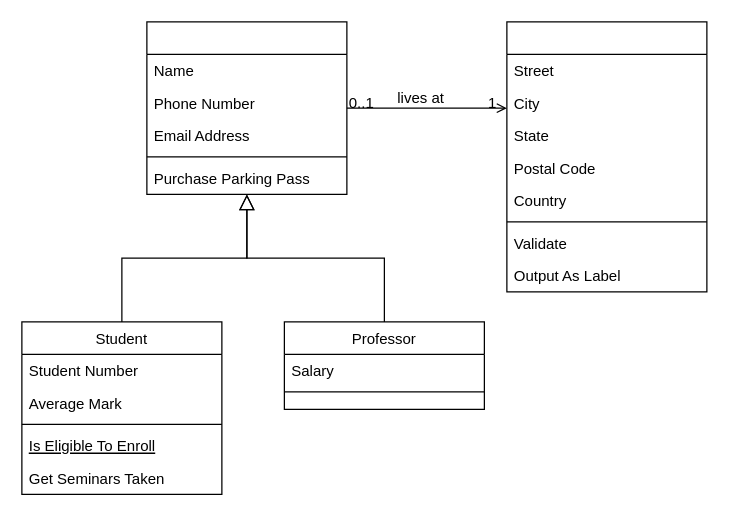
This 729x520 diagram has some shape labels left out. The box of each missing label's shape, as (x1, y1, x2, y2) in pixels:
Address: (506, 21, 707, 292)
Test: (146, 21, 347, 194)
